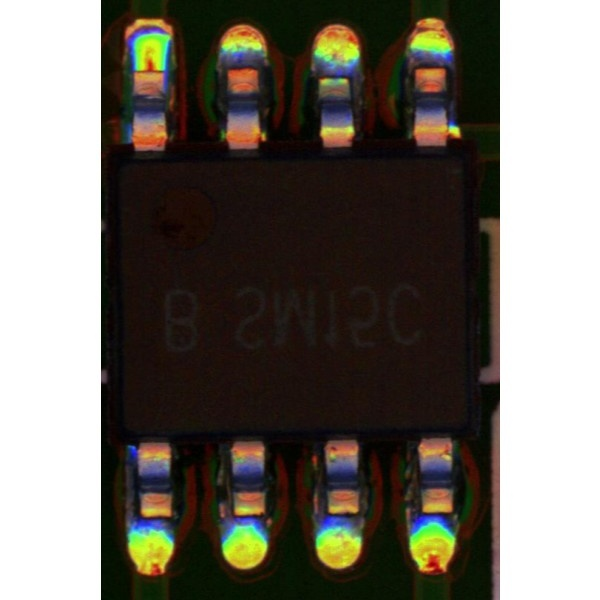Bad_podu: (137, 58, 163, 80)
